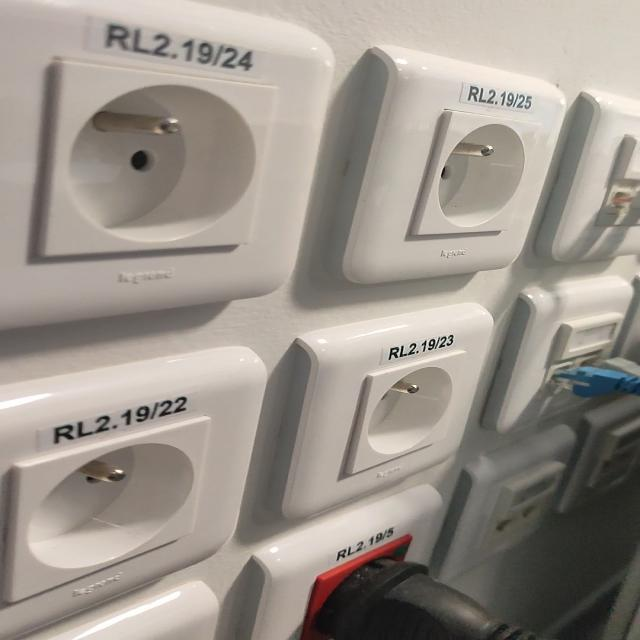house plug: (41, 62, 277, 255), (10, 418, 208, 600), (417, 110, 537, 237), (353, 349, 466, 472)
